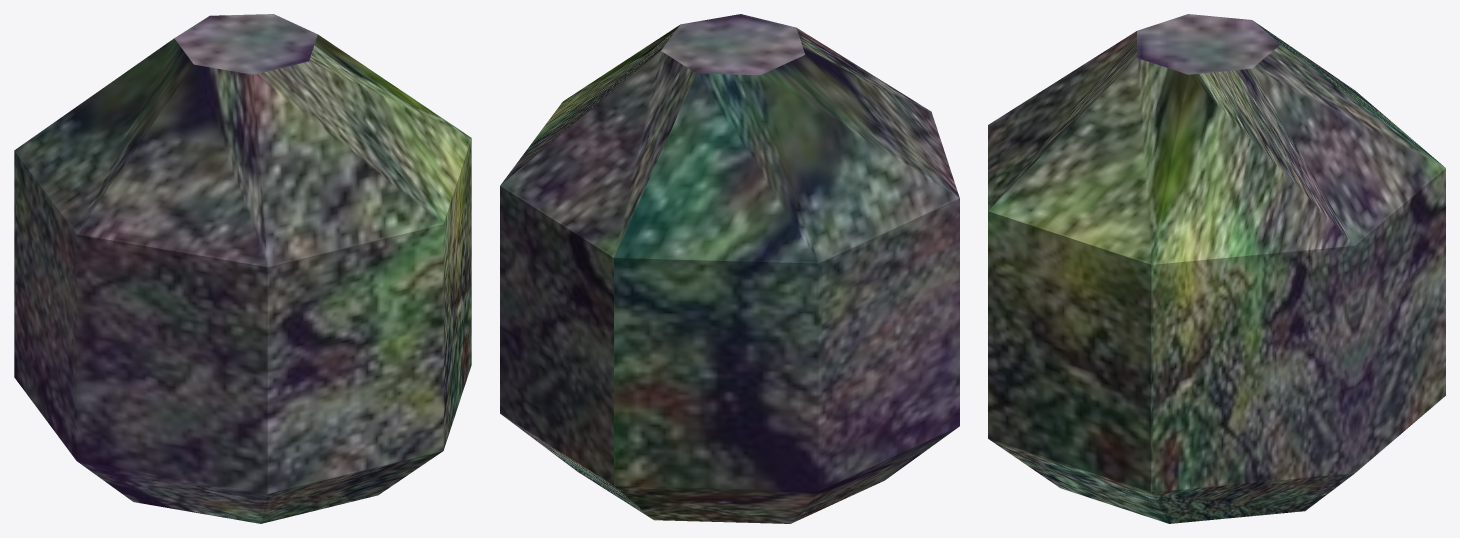
The model's file is WeedBudPurpleHaze.fbx.
3 views of the same model, side by side, from view 1: azimuth 30°, elevation 25°; view 2: azimuth 150°, elevation 25°; view 3: azimuth 270°, elevation 25° (orthographic).
Parts seen in each view (by area): view 1: WeedBud; view 2: WeedBud; view 3: WeedBud.
Boxes of the visible parts, x1,y1,x2,y2 form: WeedBud: [14, 14, 471, 523]; WeedBud: [500, 14, 959, 523]; WeedBud: [988, 14, 1445, 523].
Size of the model in its own units: 10 by 10 by 10.
